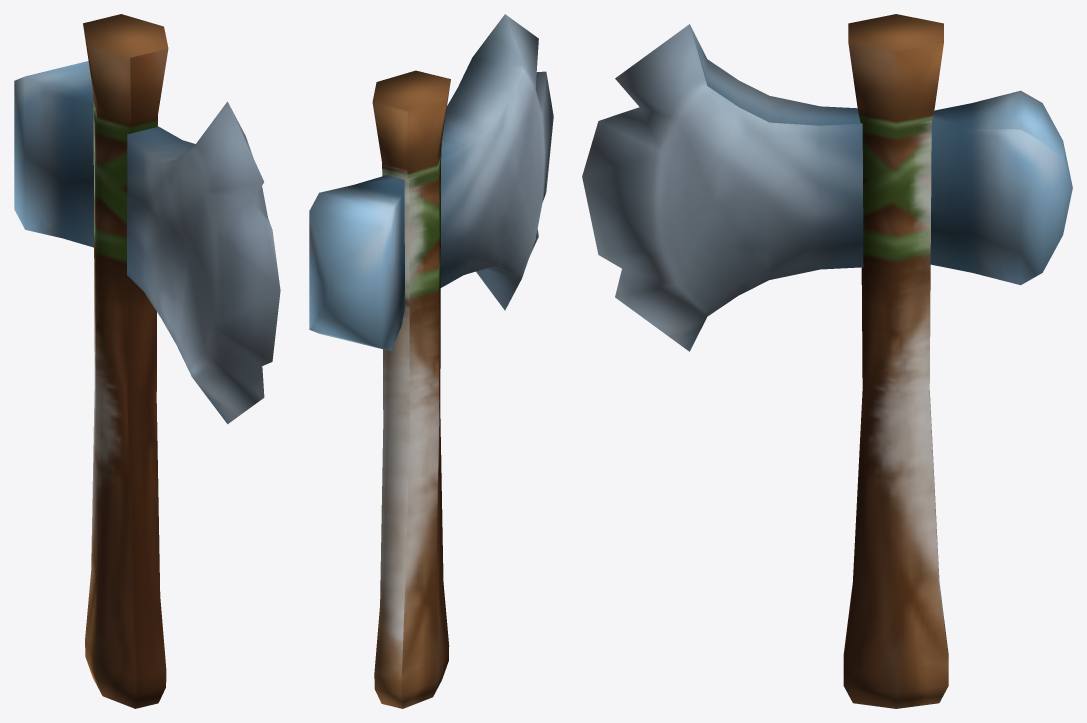
The model's file is Ice_axe_01.fbx.
The picture shows the model from 3 angles, left to right: view 1: azimuth 30°, elevation 25°; view 2: azimuth 150°, elevation 25°; view 3: azimuth 270°, elevation 25°; orthographic projection. The views are drawn at different scales.
Visible parts, largest first — view 1: Ice_axe_01; view 2: Ice_axe_01; view 3: Ice_axe_01.
Part boxes in pixels (box(x1,y1,x2,y2)): Ice_axe_01: box(14, 14, 280, 708); Ice_axe_01: box(309, 14, 553, 708); Ice_axe_01: box(582, 14, 1072, 708).
Bounding box in the file's own units: 11.82 × 95.33 × 62.94.
